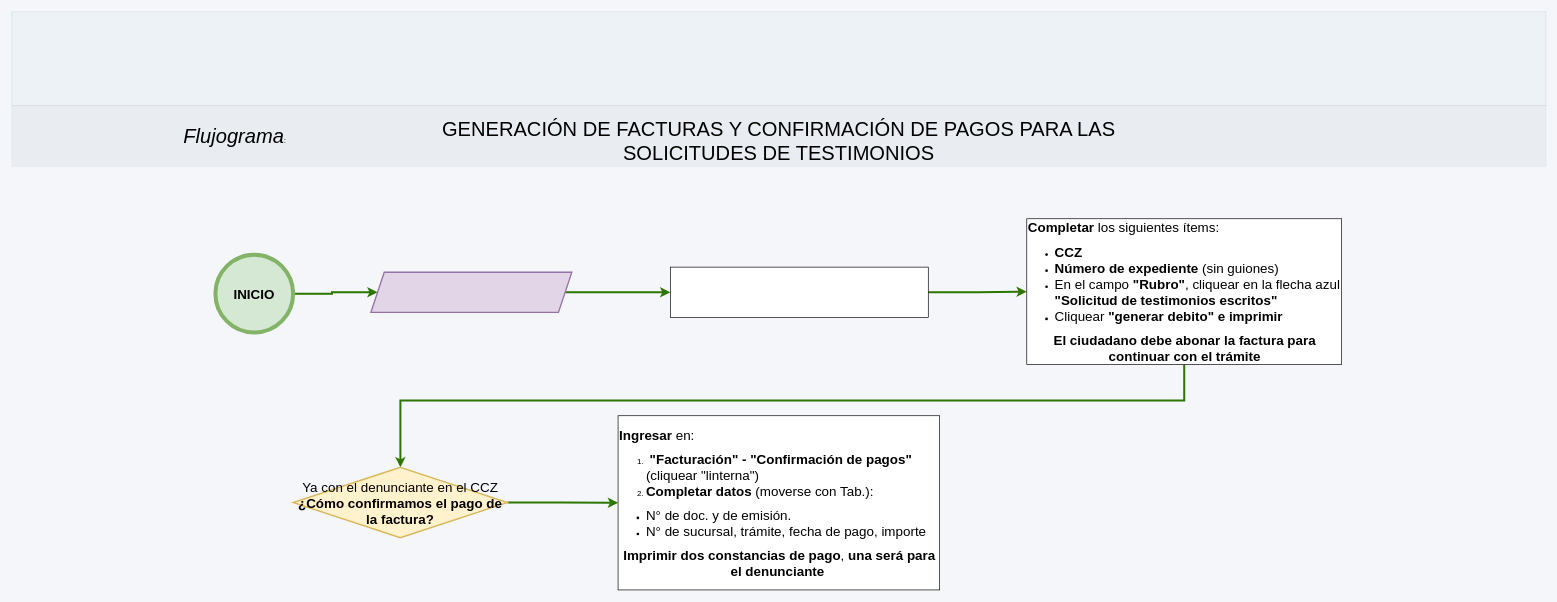
Image size: 1557x602. Some labels were removed from this diagram. Each missing label, with the box of its shape:
Ingresar a: "Facturación" - "Cobro de trámites" (cliquear "linterna"): (670, 266, 928, 317)
INGRESAR AL SISTEMA: GIC: (370, 271, 572, 313)
